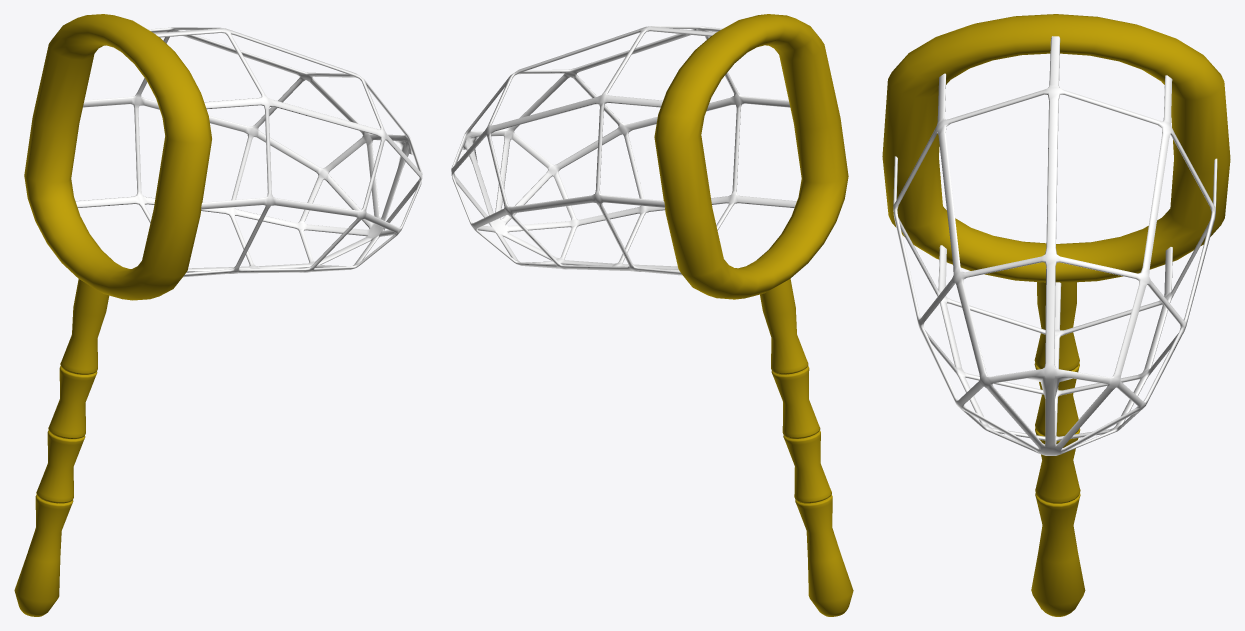
The model's file is red2.0.gltf.
The picture shows the model from 3 angles, left to right: view 1: azimuth 30°, elevation 25°; view 2: azimuth 150°, elevation 25°; view 3: azimuth 270°, elevation 25°; orthographic projection. The views are drawn at different scales.
Visible parts, largest first — view 1: Jelly Fish Net; view 2: Jelly Fish Net; view 3: Jelly Fish Net.
Part boxes in pixels (box(x1,y1,x2,y2)): Jelly Fish Net: box(14, 14, 422, 616); Jelly Fish Net: box(451, 14, 853, 616); Jelly Fish Net: box(882, 14, 1230, 616).
Size of the model in its own units: 0.5092 by 0.7009 by 0.3385.
